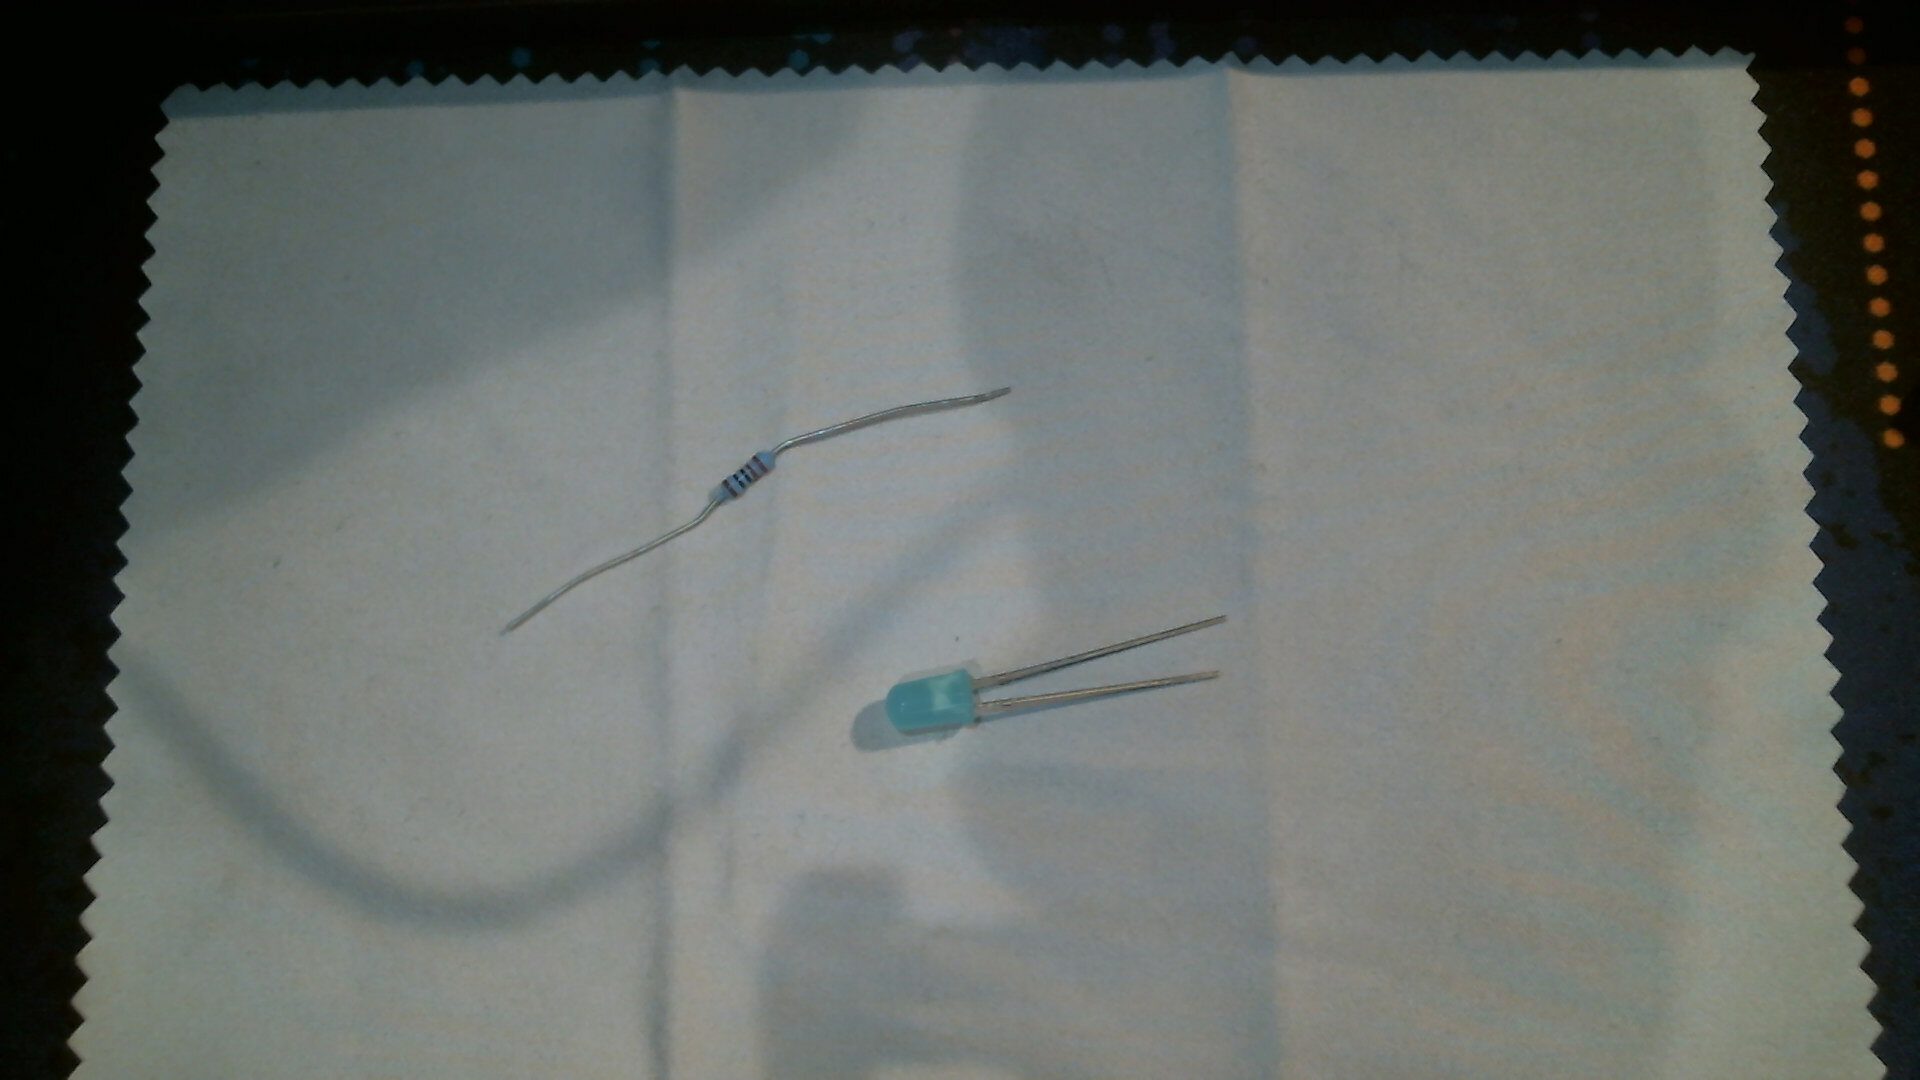LED: (882, 665, 986, 737)
resistor: (713, 447, 779, 505)
